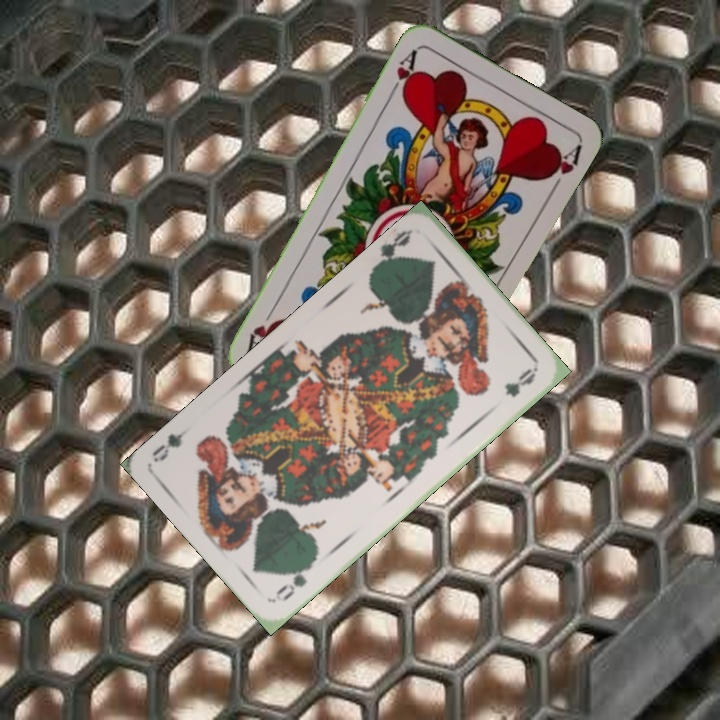GO: (271, 556, 317, 605), (368, 226, 414, 272)
HA: (385, 45, 420, 100)
